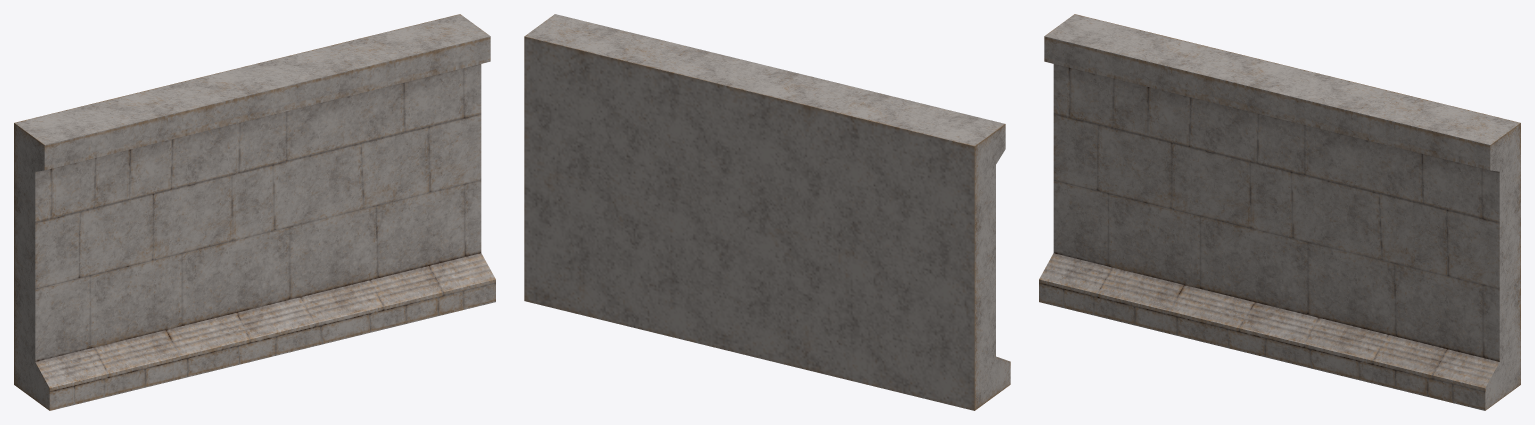
The model's file is StoneWall_Flat.fbx.
3 renders of one model, left to right at view 1: azimuth 30°, elevation 25°; view 2: azimuth 150°, elevation 25°; view 3: azimuth 330°, elevation 25°, orthographic.
Visible parts, largest first — view 1: MainWall_low; view 2: MainWall_low; view 3: MainWall_low.
Part boxes in pixels (left/top/right/bottom): MainWall_low: left=14, top=14, right=495, bottom=410; MainWall_low: left=524, top=14, right=1010, bottom=410; MainWall_low: left=1039, top=14, right=1520, bottom=410.
Bounding box in the file's own units: 500 × 281 × 69.33.
